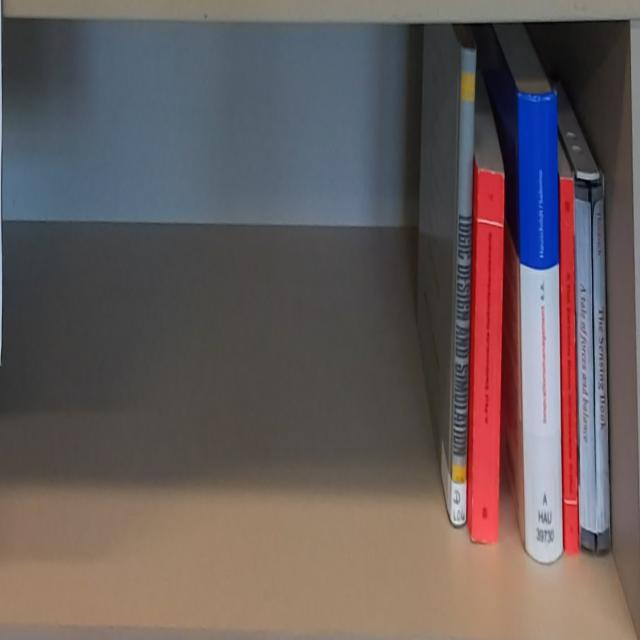Book Spine: (518, 91, 564, 565), (447, 46, 477, 527), (469, 172, 506, 547), (573, 179, 594, 553), (559, 173, 579, 553), (592, 184, 612, 552)
